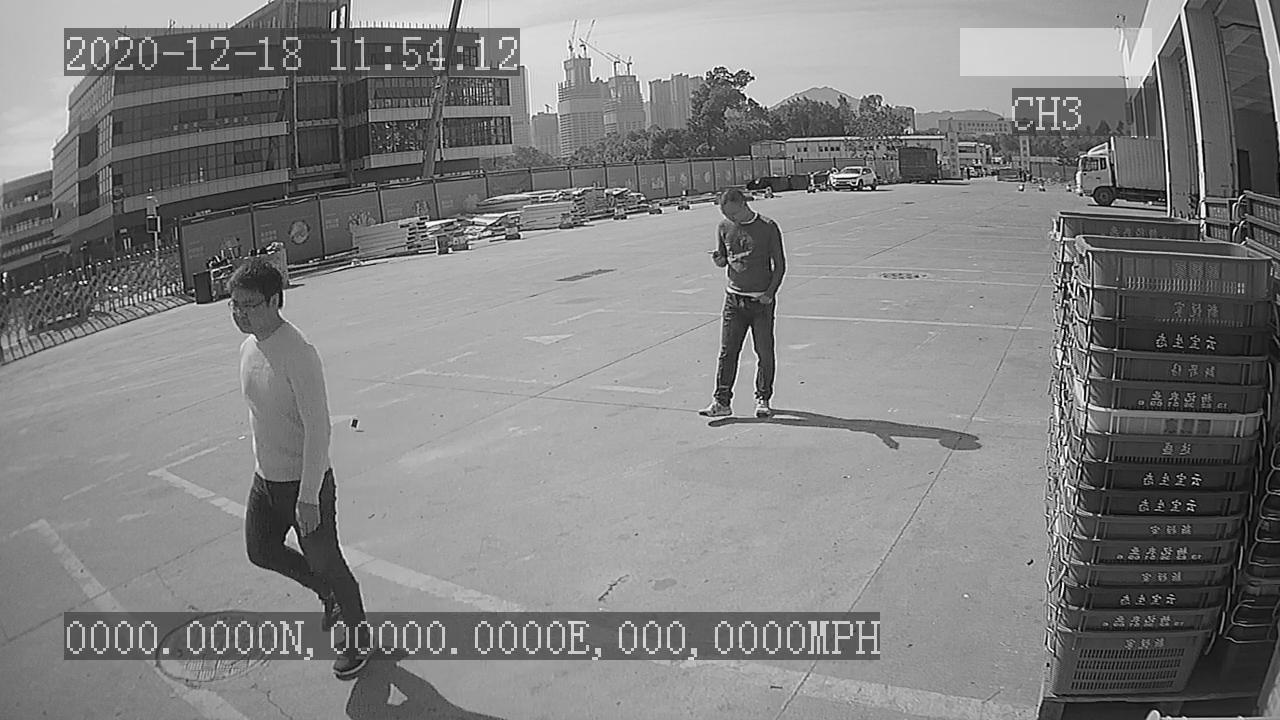person: (695, 192, 788, 426)
